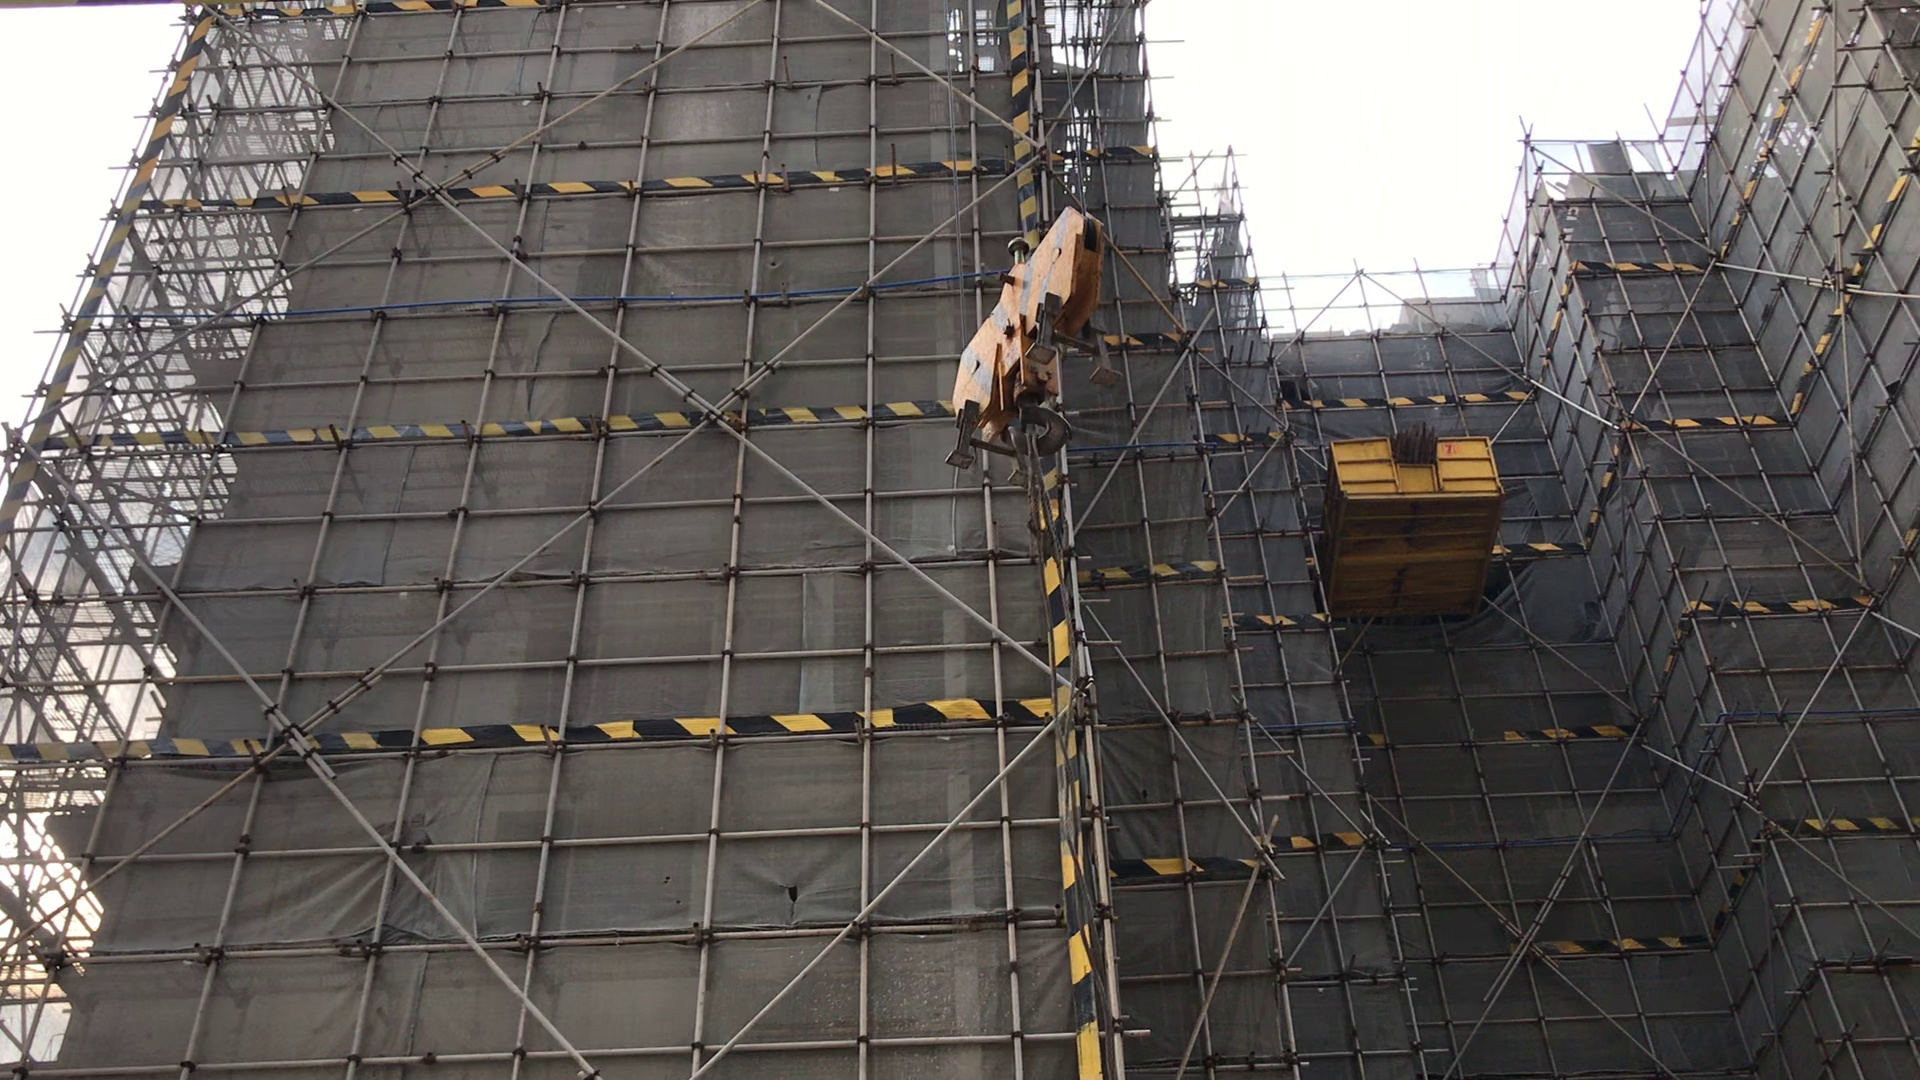hook: (931, 196, 1124, 473)
